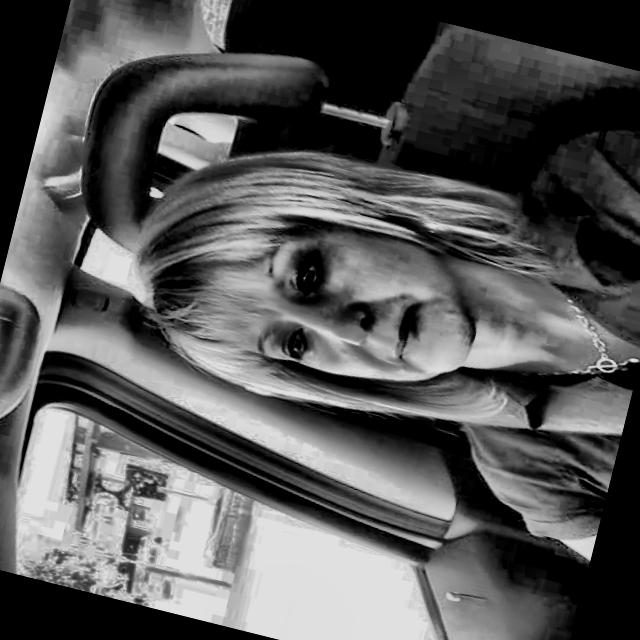closed_mouth: (379, 285, 447, 383)
open_eyes: (288, 239, 351, 305), (266, 321, 330, 380)
